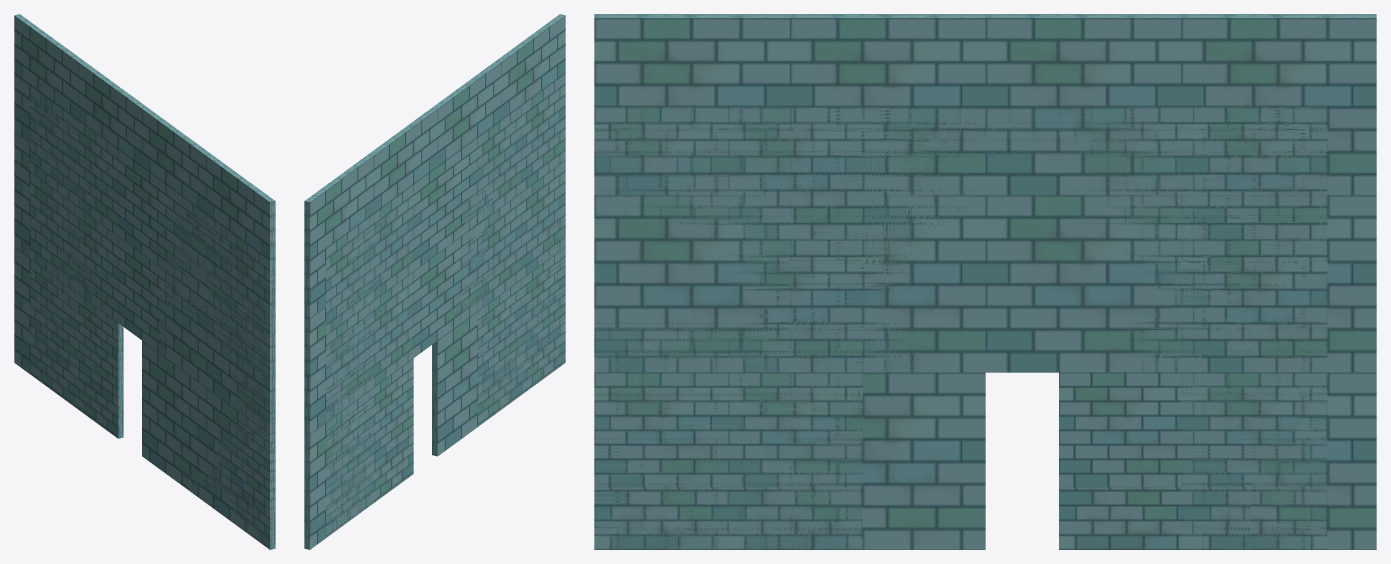
Rendered from DoorFrames.fbx.
The picture shows the model from 3 angles, left to right: view 1: azimuth 30°, elevation 25°; view 2: azimuth 150°, elevation 25°; view 3: azimuth 270°, elevation 25°; orthographic projection. The views are drawn at different scales.
Visible parts, largest first — view 1: FrameCornerWIde, FrameMiddleWIde; view 2: FrameMiddleWIde, FrameCornerWIde; view 3: FrameCornerWIde, FrameMiddleWIde.
Part boxes in pixels (bbox=[...]): FrameCornerWIde: bbox=[14, 14, 275, 548]; FrameMiddleWIde: bbox=[30, 86, 275, 549]; FrameMiddleWIde: bbox=[326, 73, 565, 537]; FrameCornerWIde: bbox=[304, 14, 565, 549]; FrameCornerWIde: bbox=[594, 14, 1376, 549]; FrameMiddleWIde: bbox=[594, 106, 1327, 549].
Size of the model in its own units: 10 by 600 by 800.
